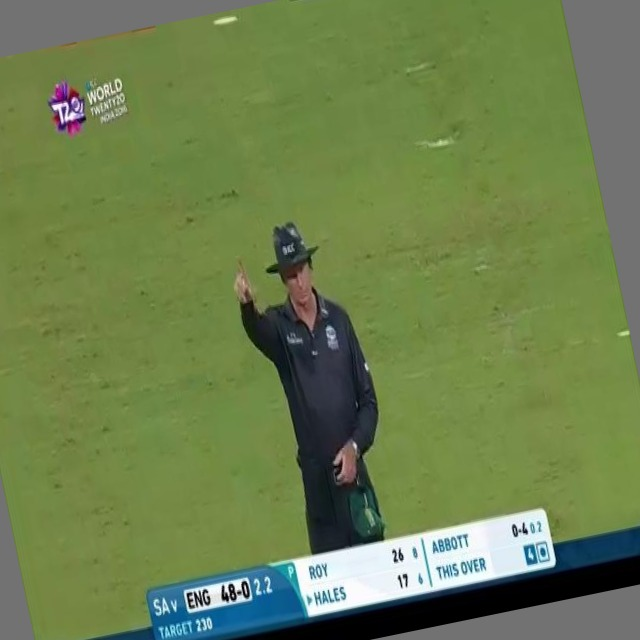Out: (217, 202, 411, 560)
